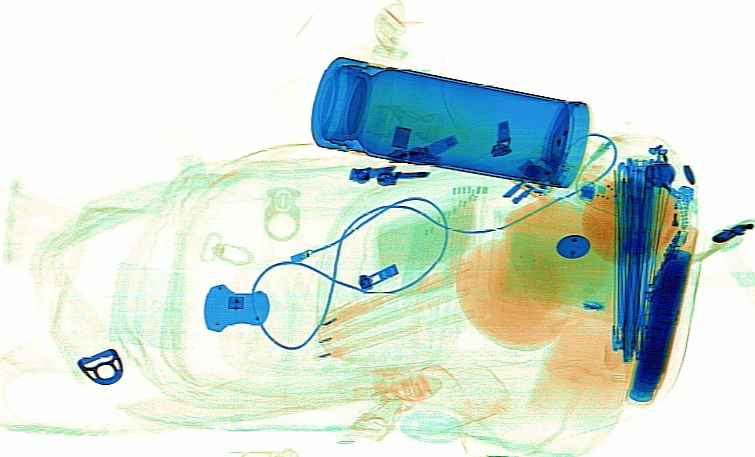lighter: (660, 184, 700, 305)
powerbank: (625, 225, 696, 403)
